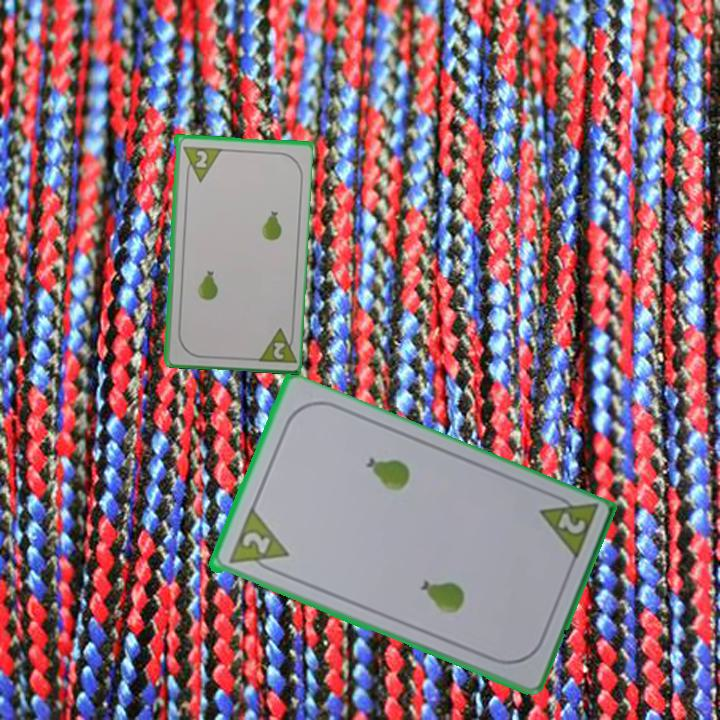2p: (535, 488, 600, 566), (224, 507, 291, 579), (252, 323, 297, 366), (179, 142, 222, 184)
